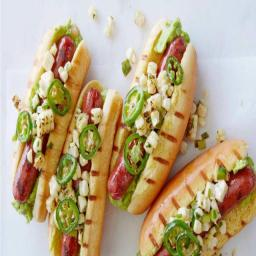hotdog: (102, 11, 198, 218), (3, 12, 90, 220), (139, 125, 255, 256), (46, 66, 122, 256)
